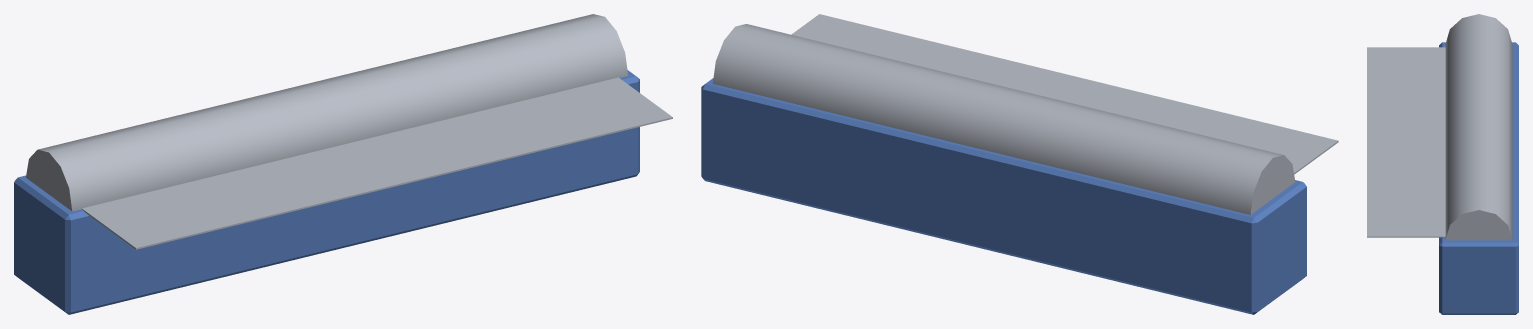
The model's file is papel_aluminio.obj.
3 renders of one model, left to right at view 1: azimuth 30°, elevation 25°; view 2: azimuth 150°, elevation 25°; view 3: azimuth 270°, elevation 25°, orthographic. The views are drawn at different scales.
Visible parts, largest first — view 1: papel_aluminio; view 2: papel_aluminio; view 3: papel_aluminio.
Part boxes in pixels (<box>): papel_aluminio: <box>14,14,672,314</box>; papel_aluminio: <box>701,14,1338,314</box>; papel_aluminio: <box>1367,14,1518,314</box>.
Bounding box in the file's own units: 0.3 × 0.071 × 0.095.
